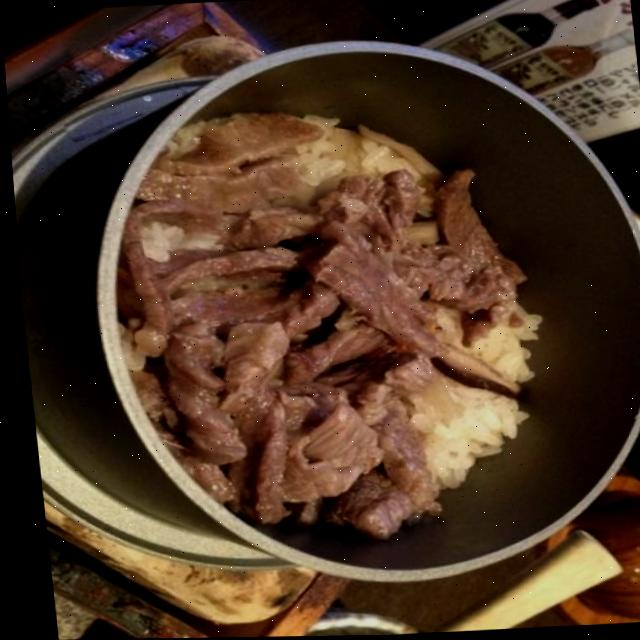鸡肉料理 含炸鸡: (125, 72, 640, 639)
